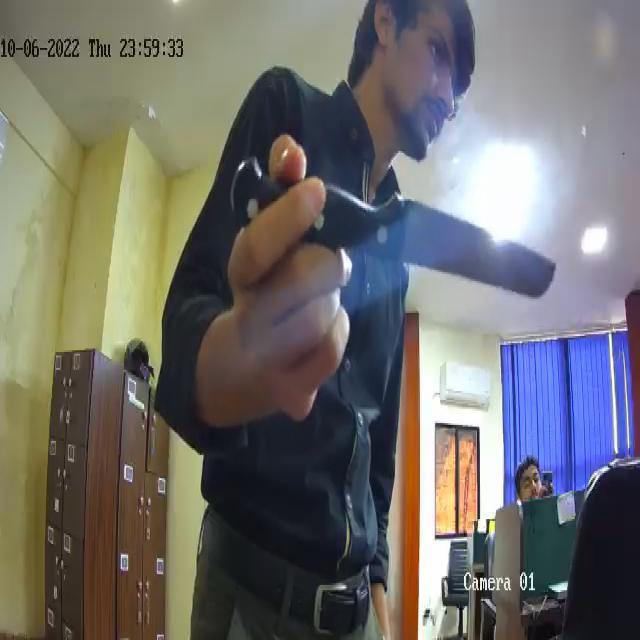Knife: (221, 138, 561, 300)
